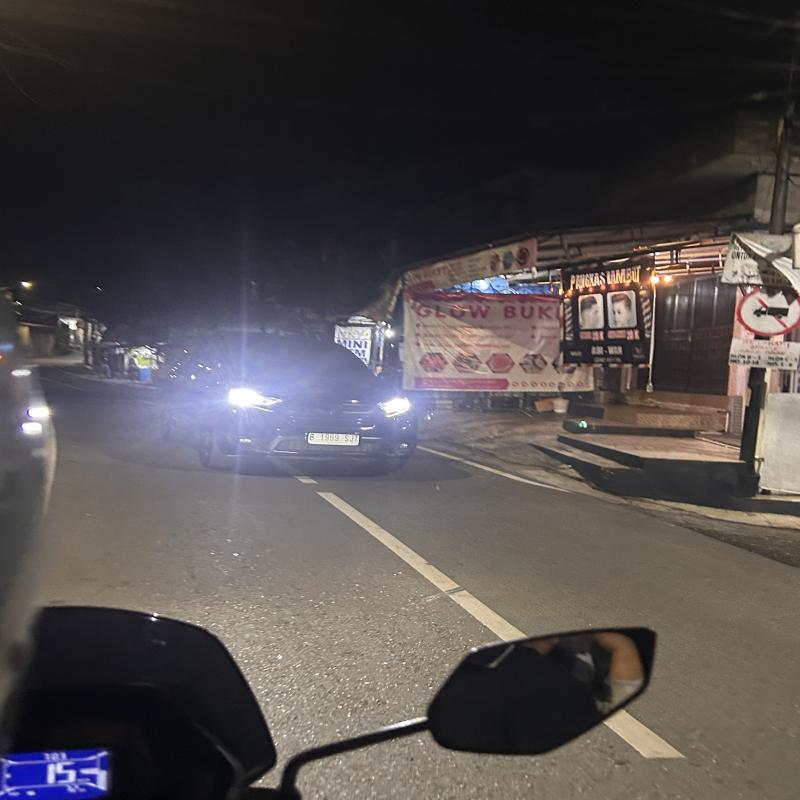license plate on a car: (310, 431, 361, 448)
